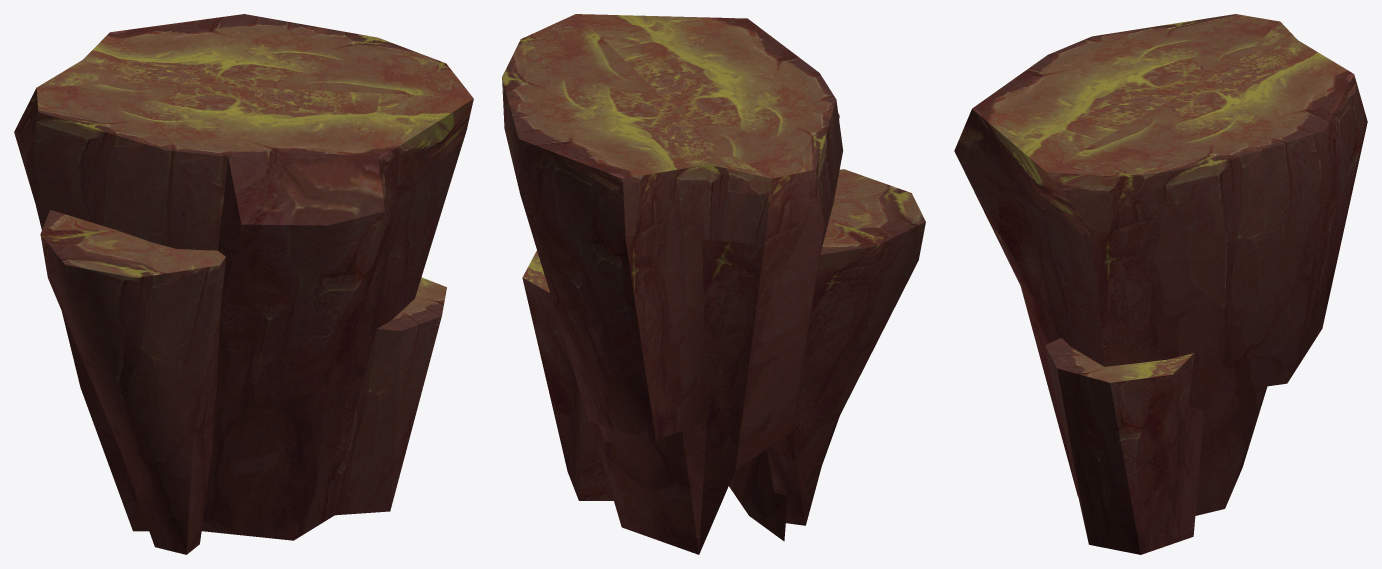
Rendered from yw_yiwangfeixu_fengbianshi02.FBX.
3 renders of one model, left to right at view 1: azimuth 30°, elevation 25°; view 2: azimuth 150°, elevation 25°; view 3: azimuth 270°, elevation 25°, orthographic. The views are drawn at different scales.
Visible parts, largest first — view 1: yw_yiwangfeixu_fengbianshi02; view 2: yw_yiwangfeixu_fengbianshi02; view 3: yw_yiwangfeixu_fengbianshi02.
Part boxes in pixels (x1,y1,x2,y2): yw_yiwangfeixu_fengbianshi02: [14, 14, 473, 554]; yw_yiwangfeixu_fengbianshi02: [502, 14, 925, 554]; yw_yiwangfeixu_fengbianshi02: [954, 14, 1367, 554].
Bounding box in the file's own units: 309 × 314 × 288.
